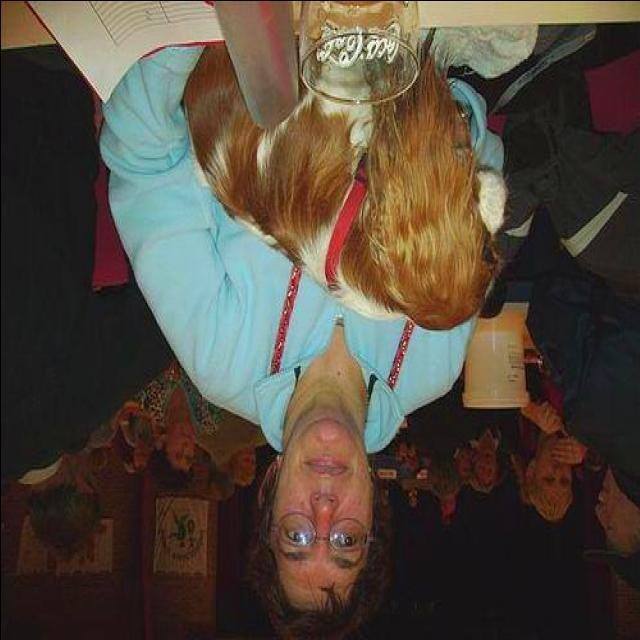blenheim_spaniel: (176, 32, 514, 332)
